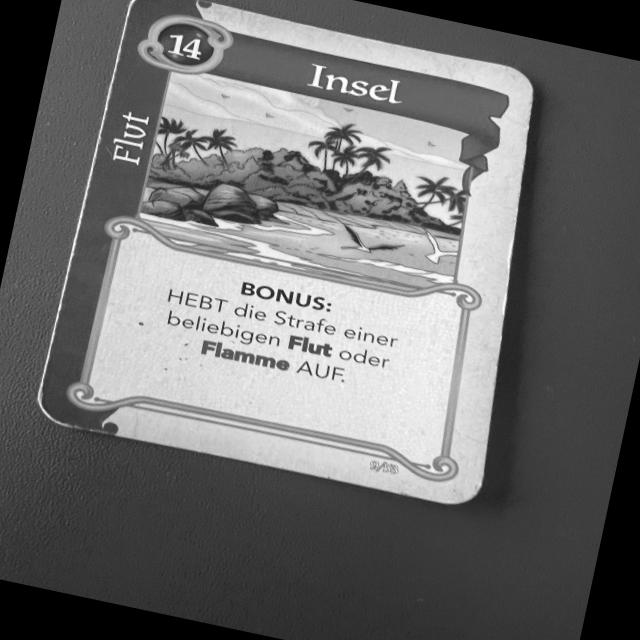Island: (28, 0, 540, 512)
